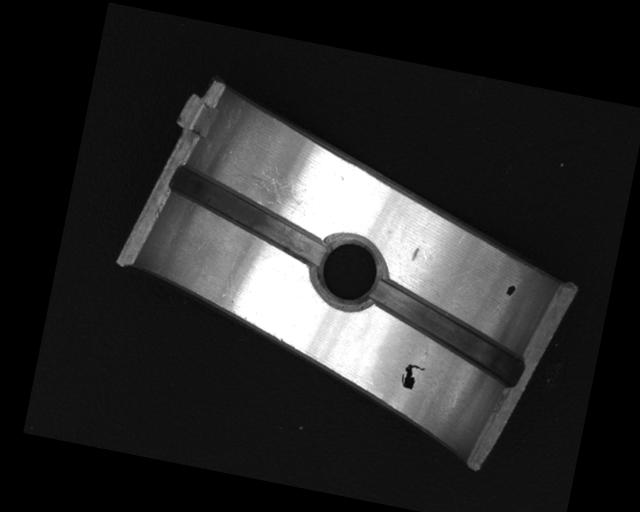blot: (399, 361, 426, 392), (505, 284, 517, 297)
bruise: (410, 246, 420, 262)
gap: (358, 277, 536, 388), (161, 165, 336, 267)
hole: (307, 229, 391, 313)
scratch: (209, 146, 314, 215)
